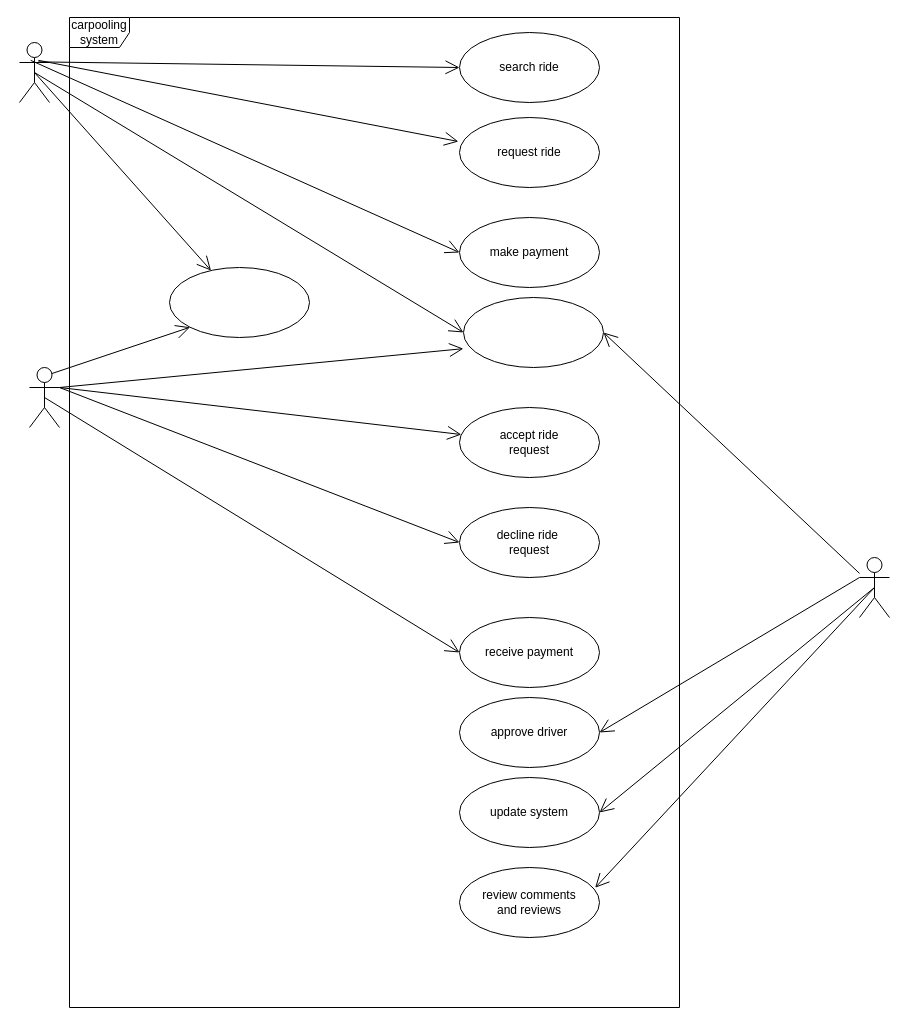
Image size: 908x1025. Some labels were removed from this diagram. Here are the shapes that lost their labels. From the top down, the box of each, then its label:
(18, 42, 50, 102): rider
(168, 266, 310, 338): make review
(462, 296, 604, 368): login
(28, 366, 60, 428): driver
(858, 556, 890, 618): admin
